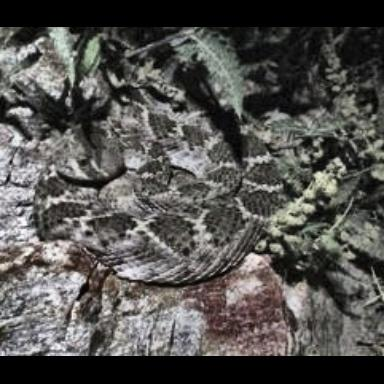snake: (40, 87, 266, 288)
